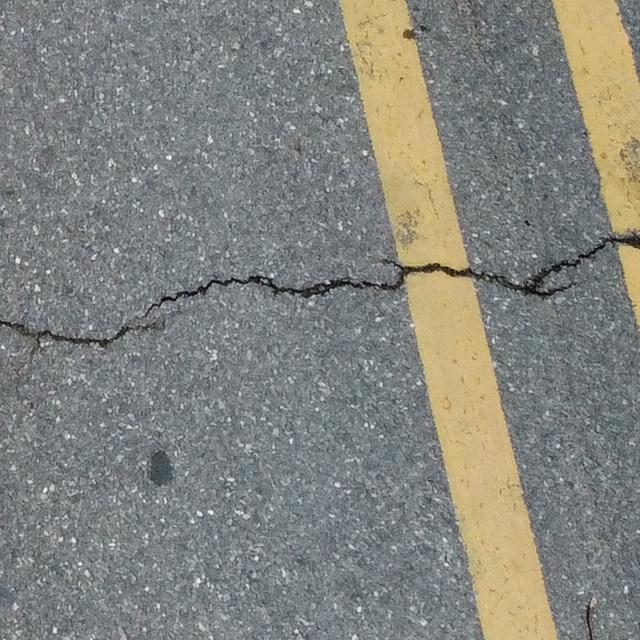TransverseCrack: (1, 231, 640, 349)
